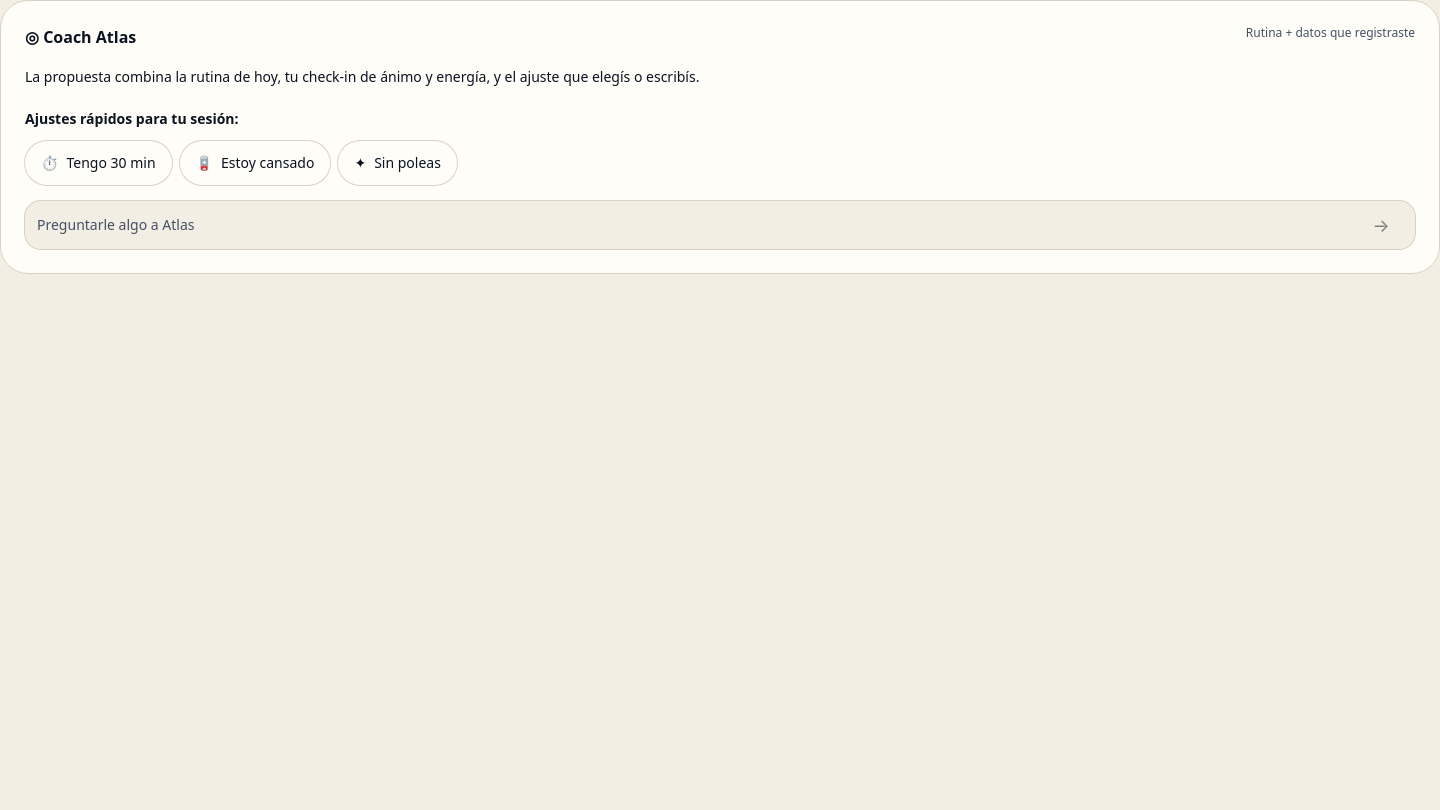
Test case: CoachAtlasCard › keeps the preview unapplied and displays a conflict without navigating
Click the button "🪫 Estoy cansado" at [255, 163], box [180,141,330,185]
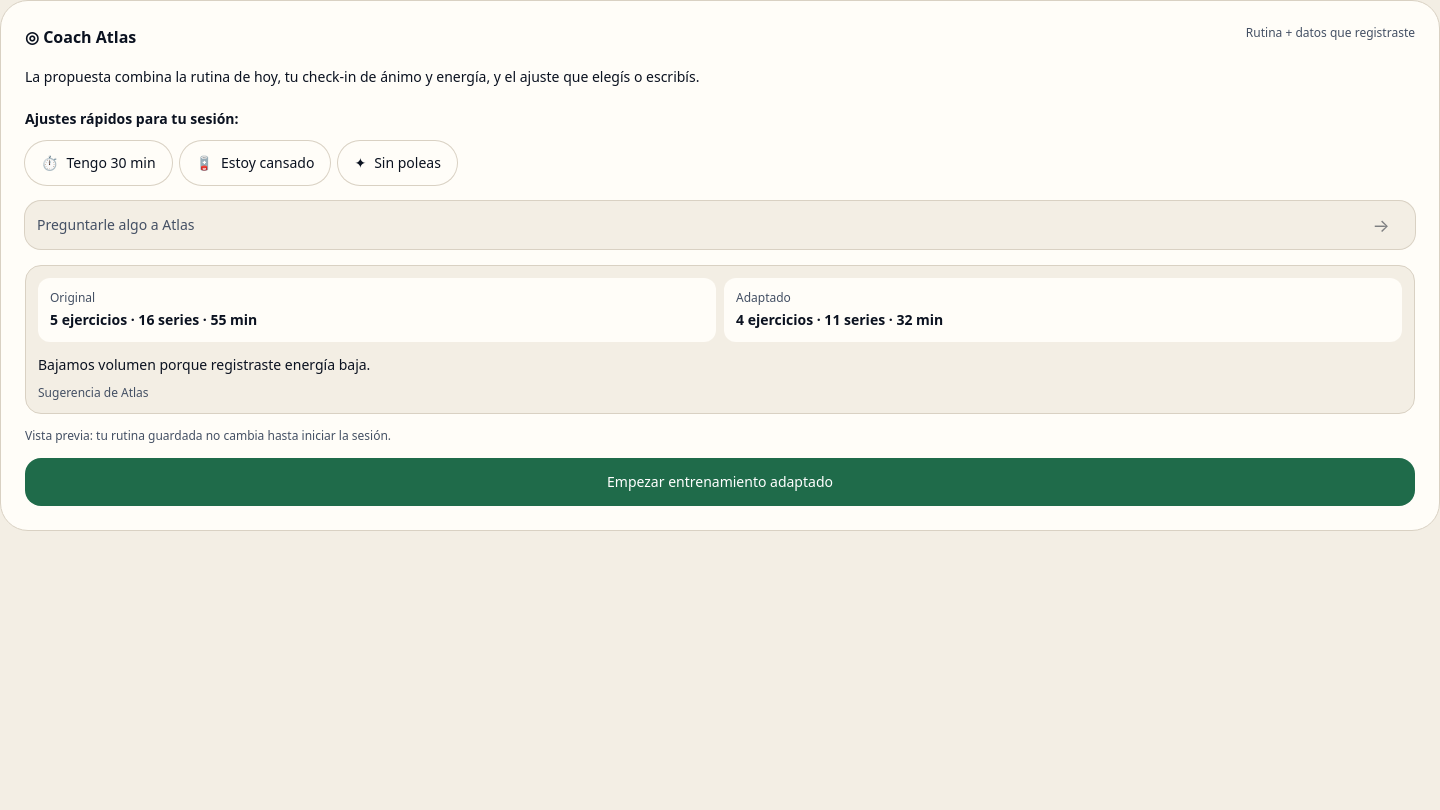
Click the button "Empezar entrenamiento adaptado" at [720, 482], box [25,458,1415,506]
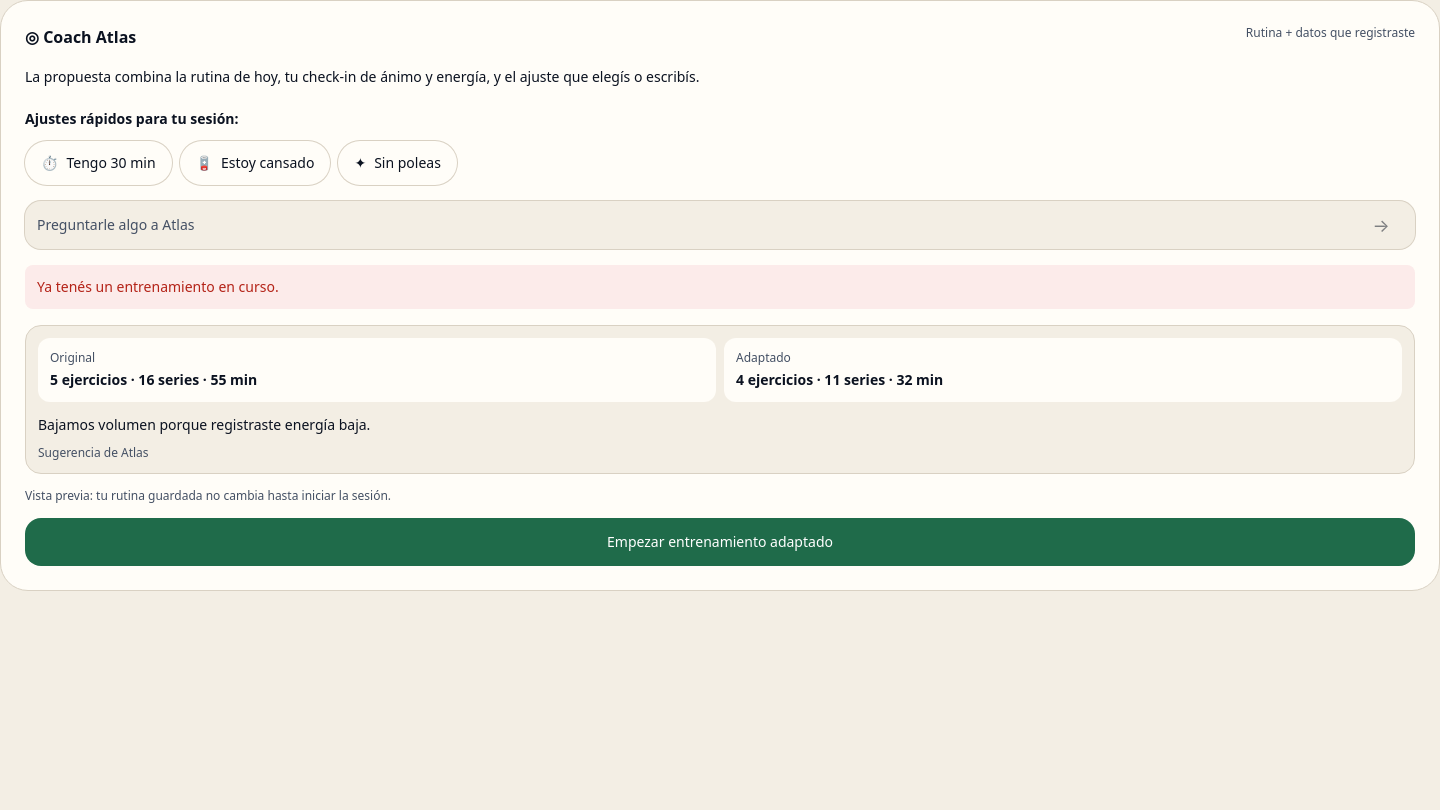
Expected: the text "Sugerencia de Atlas" is shown, [38,444,149,461]
Expected: the text "Ya tenés un entrenamiento en curso." is shown, [37,277,279,296]
